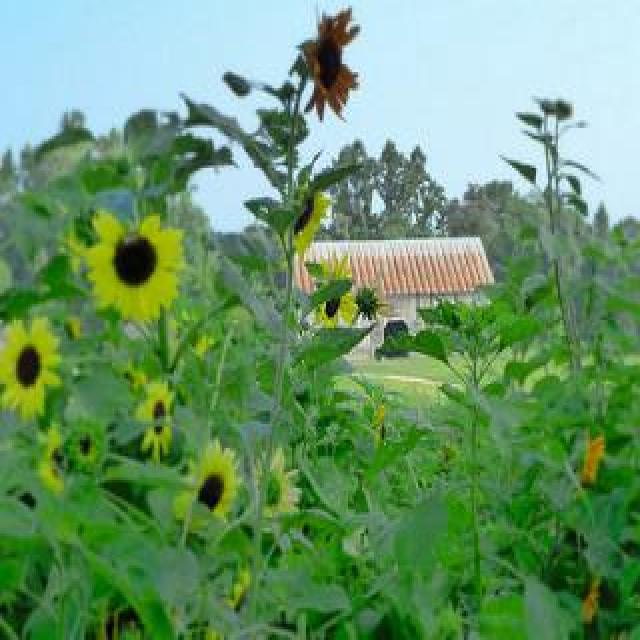sunflower: (87, 211, 184, 321), (0, 318, 61, 421), (174, 442, 237, 525), (249, 448, 302, 519), (315, 250, 359, 326), (138, 383, 178, 462), (288, 185, 327, 253), (39, 432, 67, 486)
